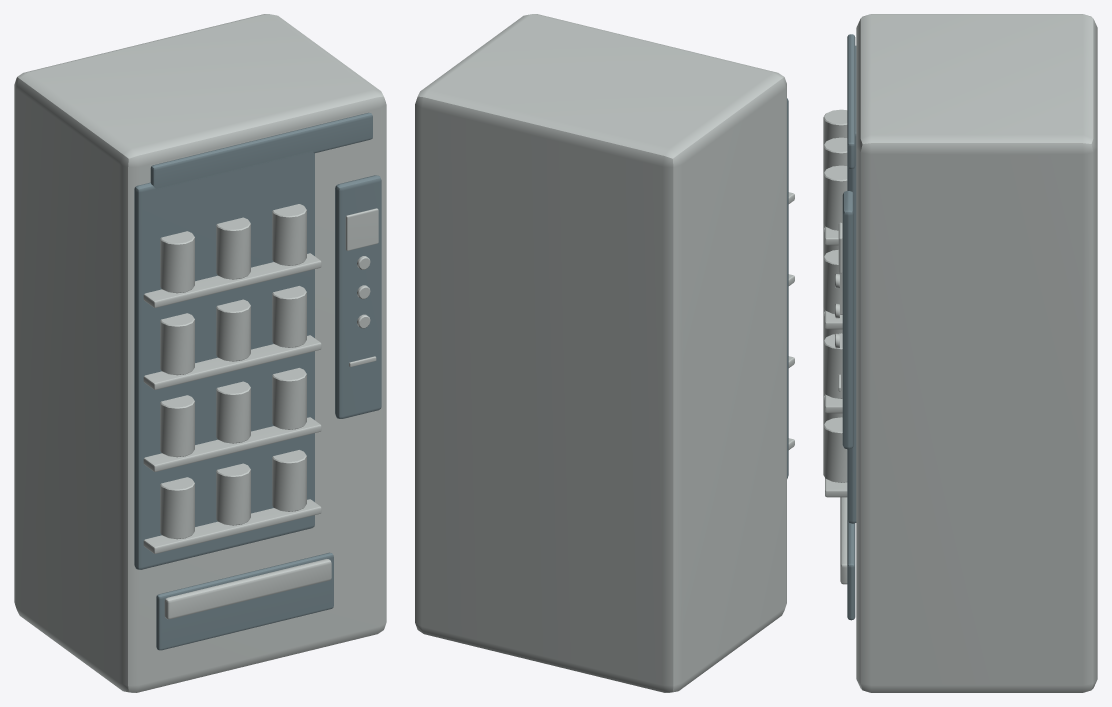
Rendered from vending-machine.glb.
The picture shows the model from 3 angles, left to right: view 1: azimuth 30°, elevation 25°; view 2: azimuth 150°, elevation 25°; view 3: azimuth 270°, elevation 25°; orthographic projection. The views are drawn at different scales.
Parts seen in each view (by area): view 1: cabinet, front_recess, selection_panel, collection_recess, header_band, pickup_flap, shelf.003, shelf.001, shelf, shelf.002, drink_can, drink_can.003 (+11 smaller); view 2: cabinet, front_recess; view 3: cabinet, selection_panel, front_recess, drink_can.002, drink_can.011, header_band, drink_can.005, drink_can.008, collection_recess, drink_can.009, drink_can.010, pickup_flap.
Boxes of the visible parts, <box> form: cabinet: <box>14,14,386,692</box>; front_recess: <box>134,150,314,569</box>; selection_panel: <box>335,175,381,418</box>; collection_recess: <box>156,552,333,650</box>; header_band: <box>150,112,372,189</box>; pickup_flap: <box>164,559,331,619</box>; shelf.003: <box>143,253,321,307</box>; shelf.001: <box>143,417,321,471</box>; shelf: <box>143,499,321,553</box>; shelf.002: <box>143,335,321,389</box>; drink_can: <box>160,477,194,539</box>; drink_can.003: <box>160,395,194,457</box>; cabinet: <box>415,14,786,692</box>; front_recess: <box>787,98,788,478</box>; cabinet: <box>856,14,1097,692</box>; selection_panel: <box>842,191,853,449</box>; front_recess: <box>847,45,856,523</box>; drink_can.002: <box>823,417,847,482</box>; drink_can.011: <box>823,165,847,230</box>; header_band: <box>847,34,855,168</box>; drink_can.005: <box>823,333,842,398</box>; drink_can.008: <box>823,250,842,314</box>; collection_recess: <box>847,520,855,620</box>; drink_can.009: <box>823,109,847,144</box>; drink_can.010: <box>823,137,847,172</box>; pickup_flap: <box>840,497,847,584</box>.
Bounding box in the file's own units: 0.95 × 1.86 × 0.83.
